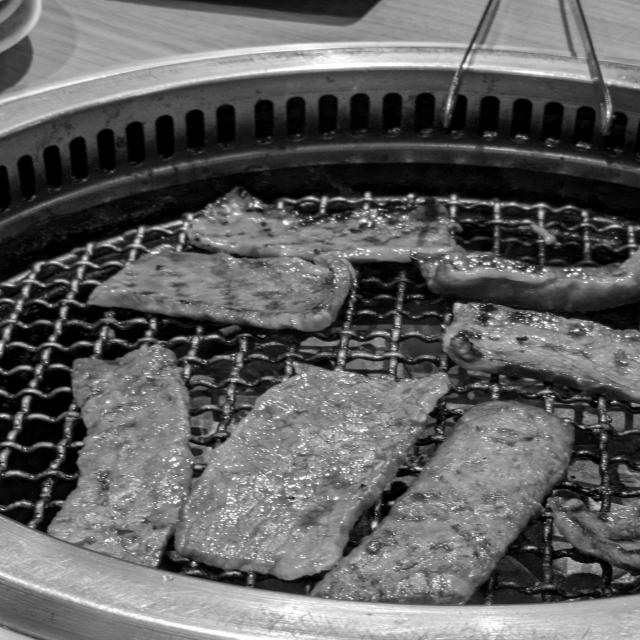OK cooked beef,: (167, 348, 467, 583), (163, 174, 467, 266), (427, 298, 640, 413), (401, 236, 640, 325), (546, 492, 640, 581)
OK undercooked beef,: (294, 395, 594, 611), (42, 338, 203, 573), (67, 235, 358, 339)
